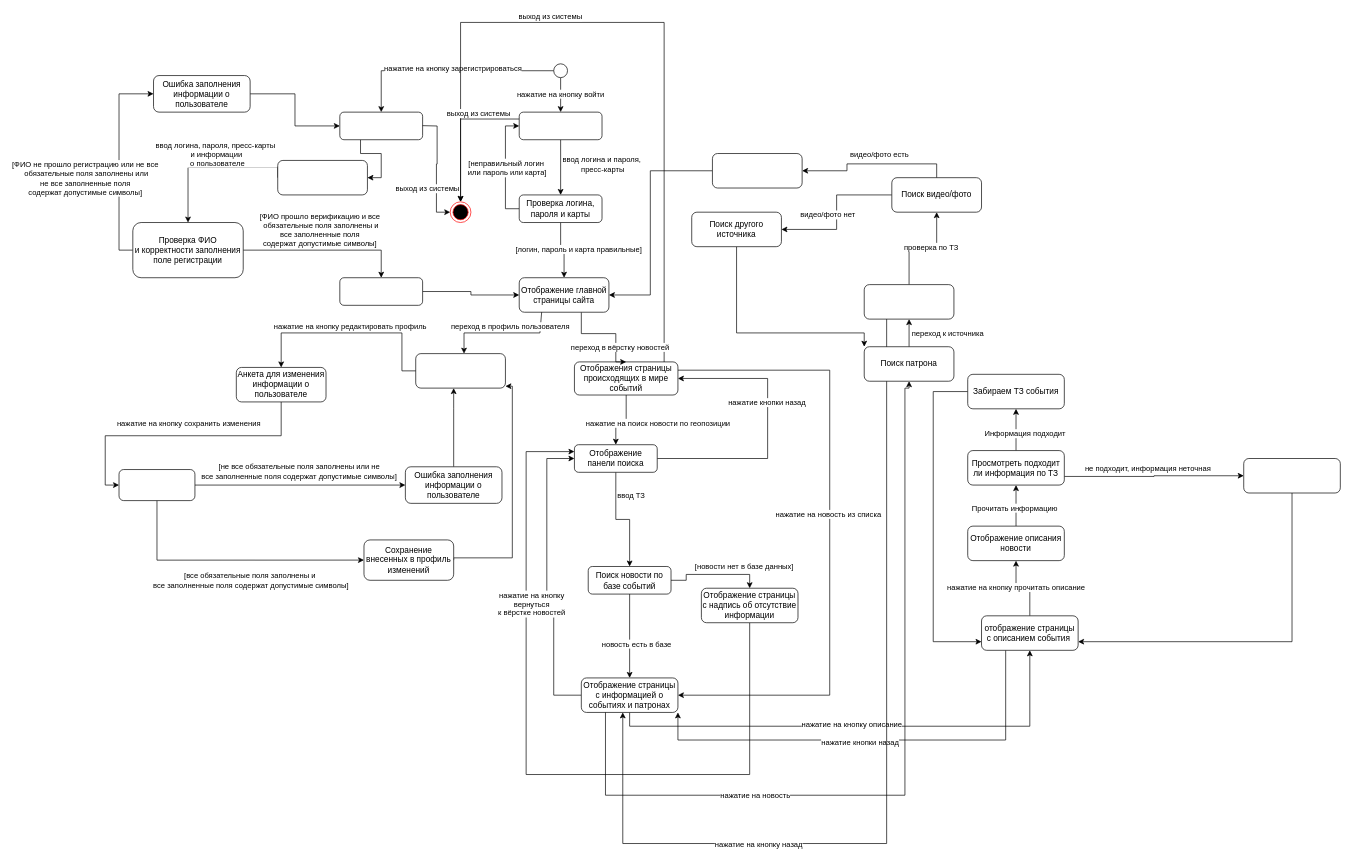
The diagram is 1352 pixels wide and 861 high, and some of its shapes have lost their labels. The centre of each missing label's shape, as x and y in pixels:
Ожидание входа в систему: (x=560, y=125)
Ожидание регистрации: (x=381, y=125)
Отображение анкеты для регистрации: (x=322, y=177)
Отображение информации о пользователе: (x=460, y=370)
переход на страницу автора: (x=909, y=301)
Поиск нового источника: (x=1291, y=475)
Проверка корректности заполнения полей: (x=156, y=485)
Скачивание видео/фото: (x=757, y=170)
Создание аккаунта нового пользователя: (x=381, y=291)
